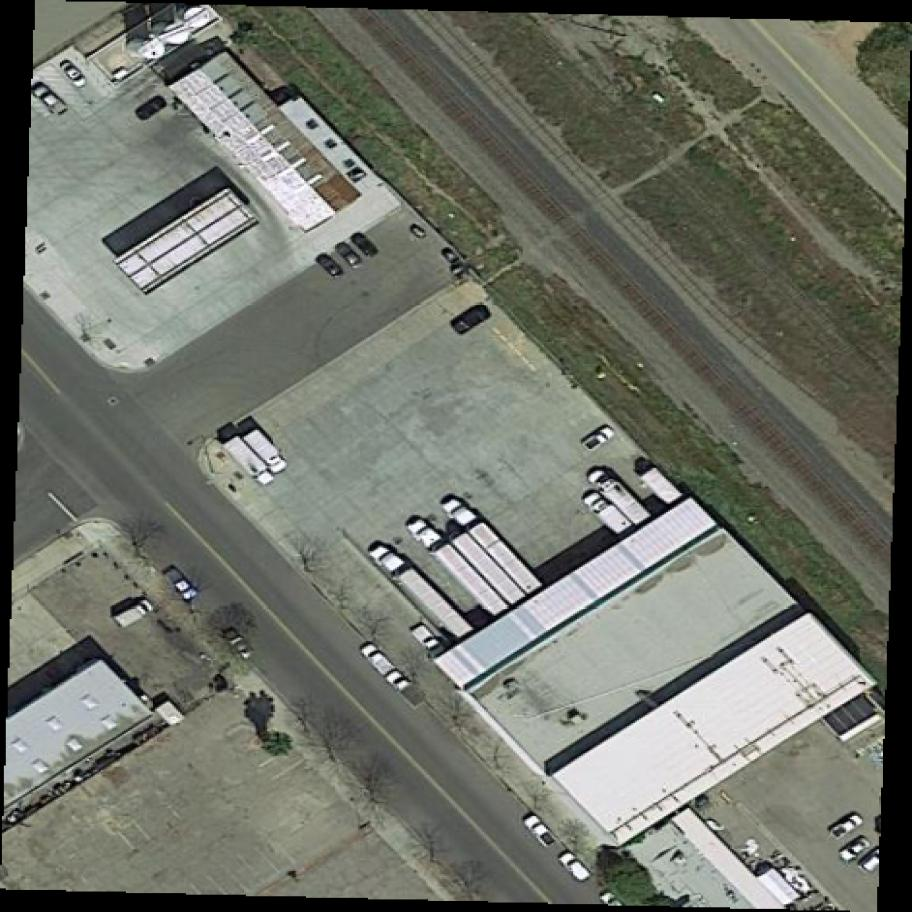large-vehicle: (409, 516, 515, 620), (369, 542, 476, 642), (441, 497, 546, 596), (453, 531, 531, 609), (587, 465, 654, 530), (227, 436, 279, 490), (583, 490, 637, 541), (641, 464, 691, 513), (246, 429, 290, 476), (164, 566, 201, 605), (116, 597, 157, 630)
small-vehicle: (31, 80, 70, 120), (451, 299, 492, 337), (387, 672, 426, 711), (412, 623, 450, 663), (362, 643, 399, 681), (829, 812, 866, 848), (525, 815, 560, 851), (223, 629, 258, 664), (560, 851, 594, 885), (583, 425, 618, 457), (838, 836, 873, 868), (136, 94, 170, 125), (60, 60, 91, 93), (337, 242, 366, 272), (318, 254, 345, 282), (354, 233, 381, 260)
